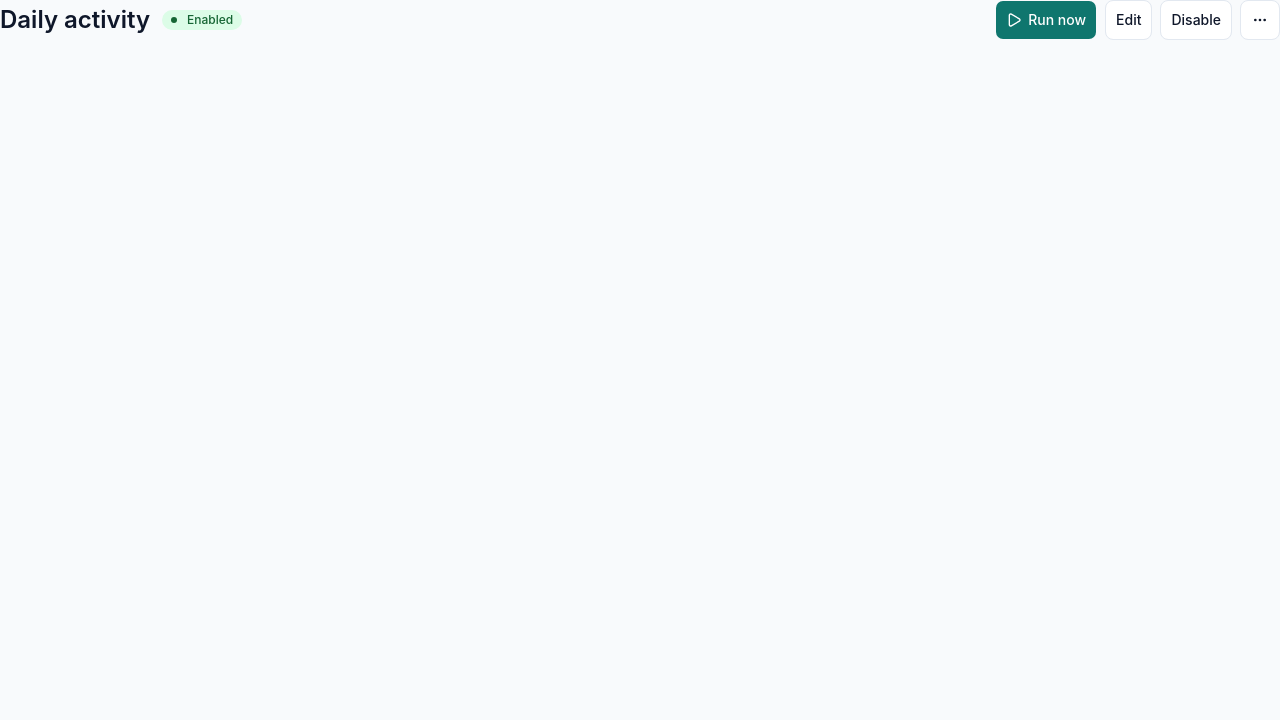
Test: WorkflowHeader › delete workflow › cancels without sending a request, and resets the countdown when reopened
Expected: the button "Run now" is shown, [995,0,1097,40]
Click the button named "more actions" at (1260, 20), box [1240,0,1279,40]
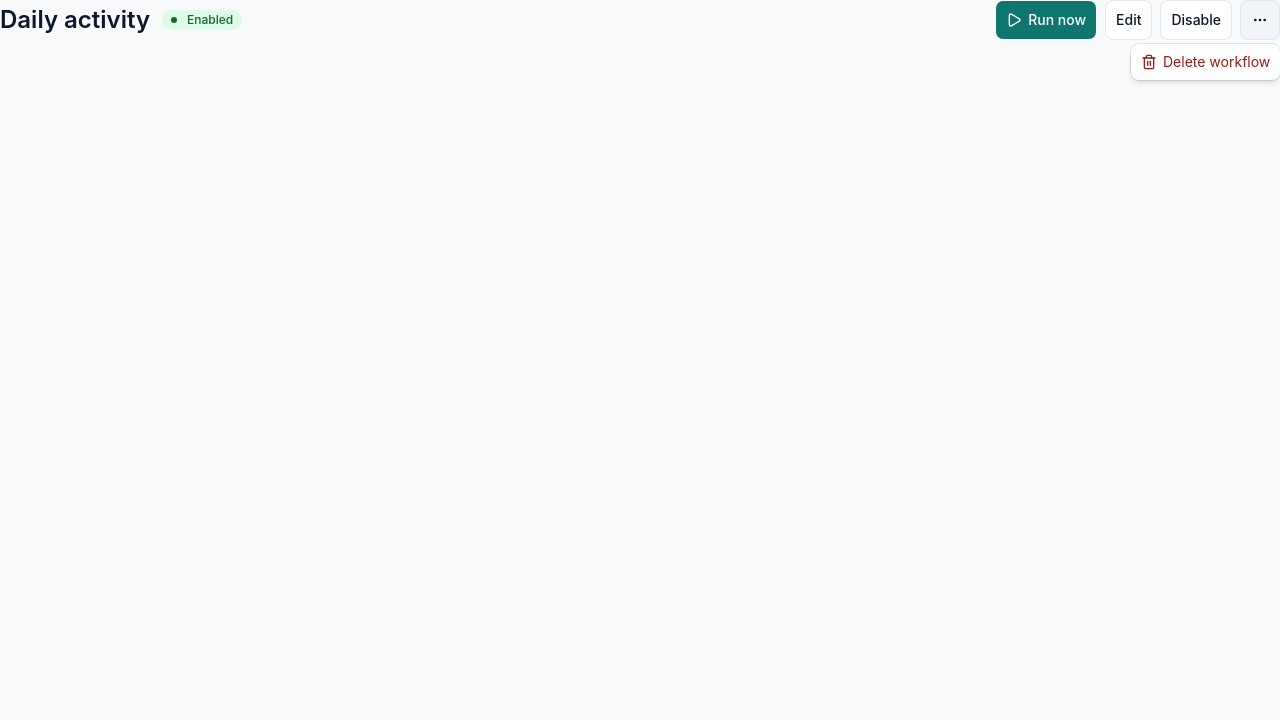
Click the menu item "Delete workflow" at (1206, 62), box [1135,48,1276,76]
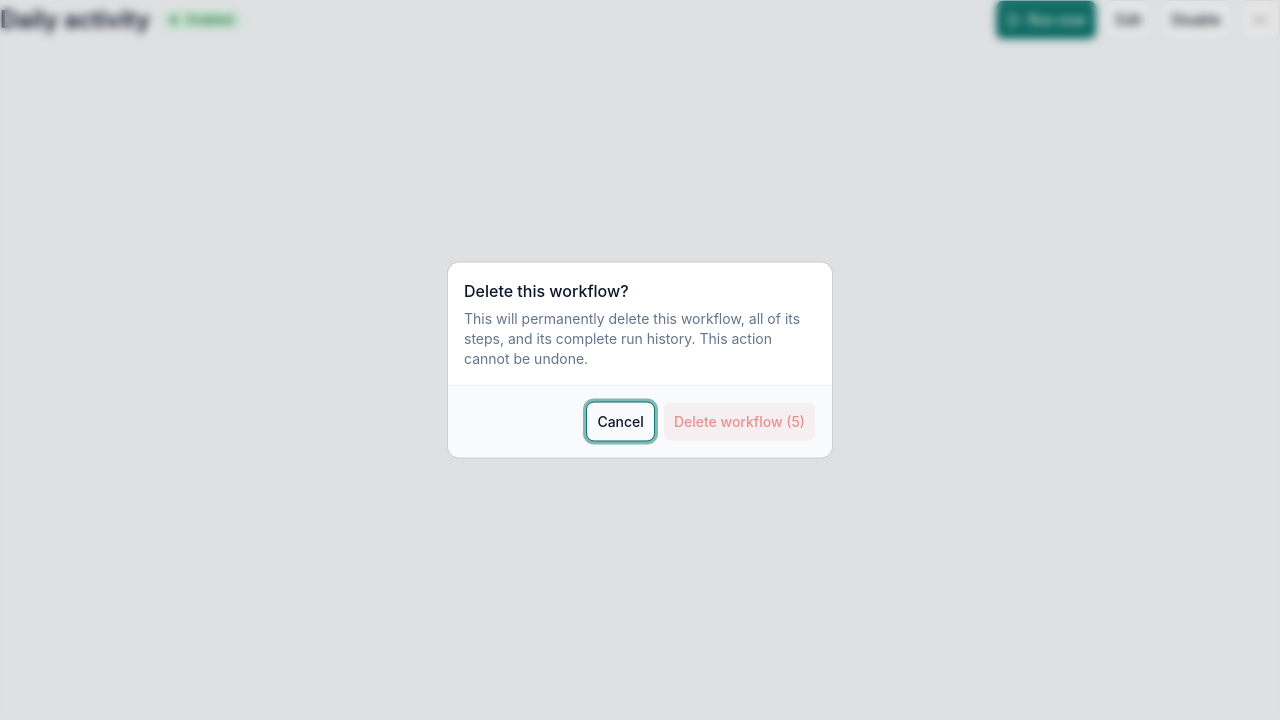
Click the button "Cancel" at (621, 422), box [586,402,655,442]
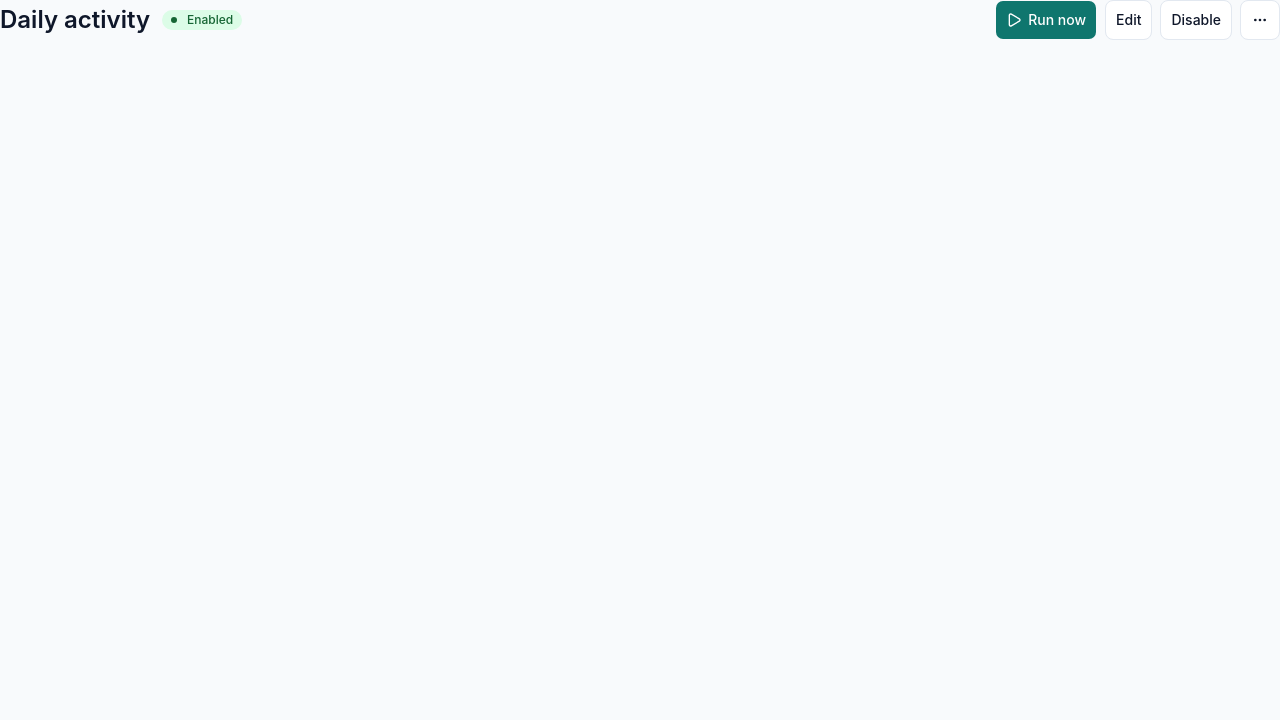
Now the dialog is gone
Click the button named "more actions" at (1260, 20), box [1240,0,1279,40]
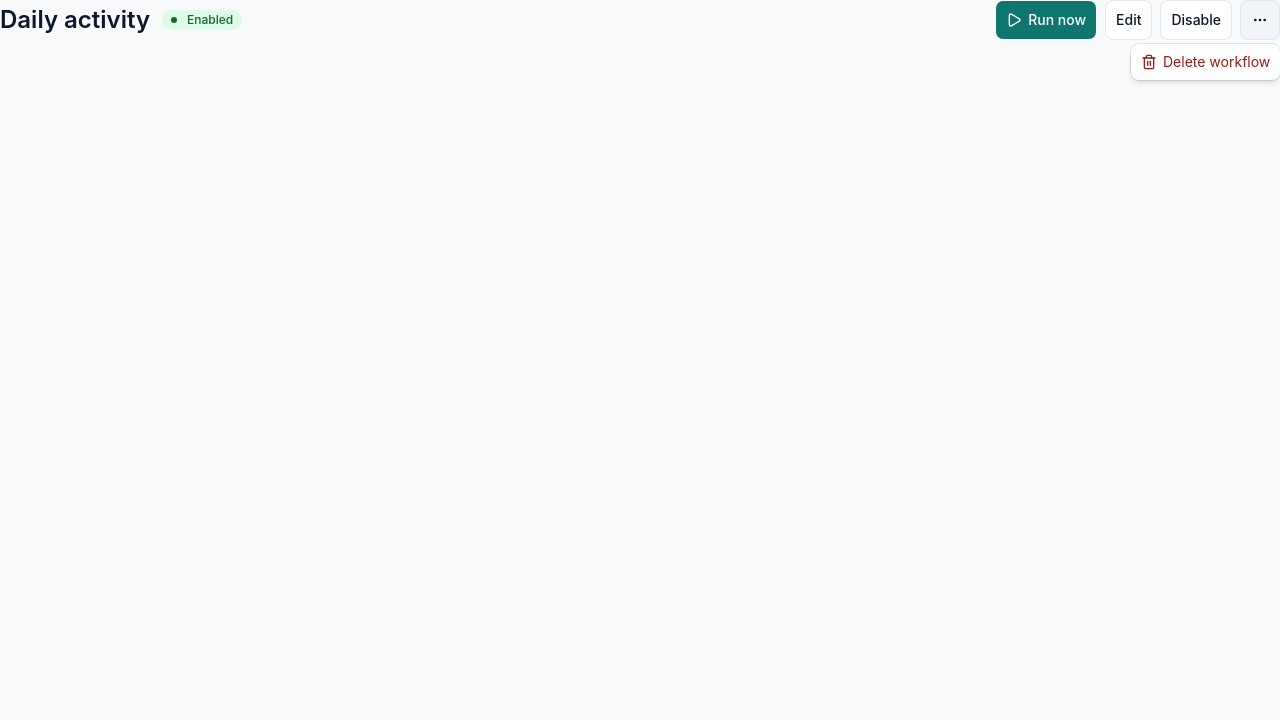
Click the menu item "Delete workflow" at (1206, 62), box [1135,48,1276,76]
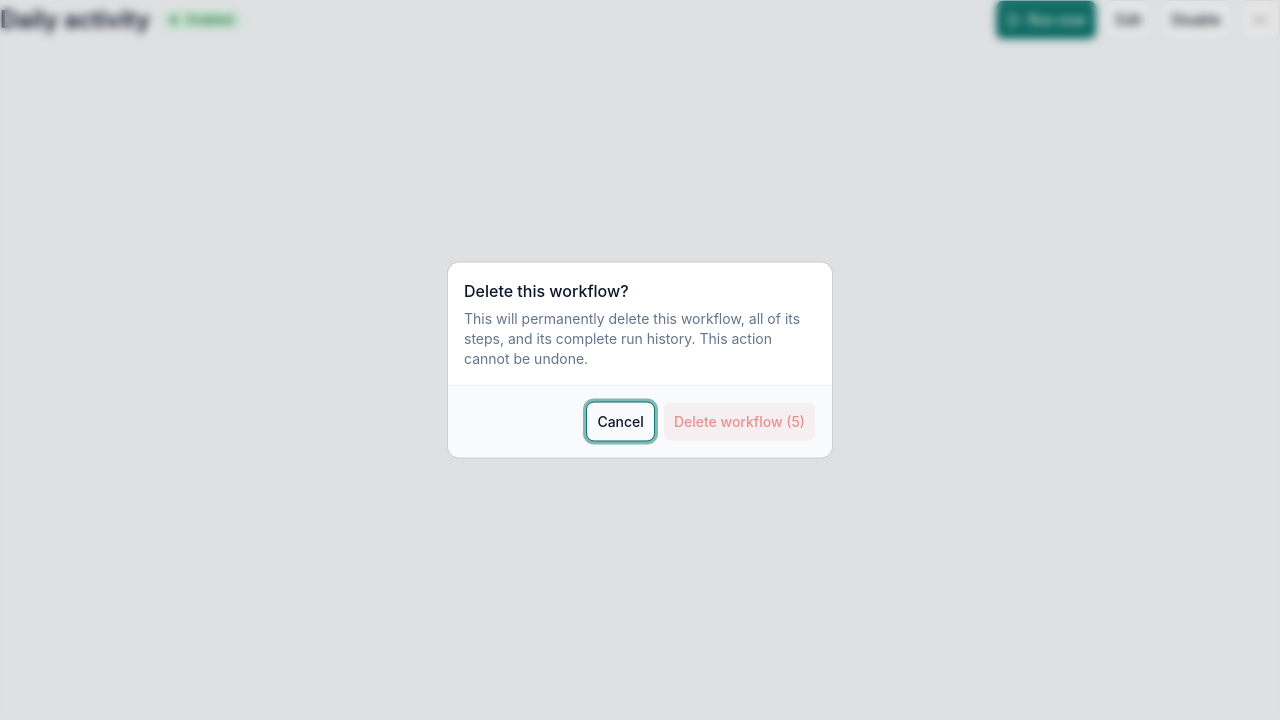
Now the button "Delete workflow (5)" is disabled, box [663,402,816,442]
